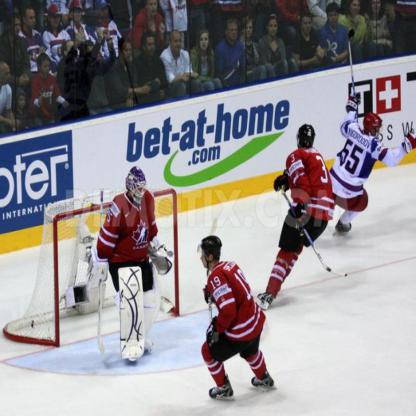face: (201, 250, 213, 269), (67, 43, 79, 62), (86, 47, 96, 66), (146, 38, 156, 56), (135, 184, 145, 201), (11, 19, 21, 36), (122, 44, 132, 61), (172, 36, 182, 53), (25, 14, 36, 29), (97, 12, 108, 27), (229, 25, 239, 41), (201, 35, 210, 52), (302, 18, 311, 35), (3, 64, 11, 83), (245, 22, 254, 37), (270, 21, 279, 36), (148, 3, 158, 15), (352, 3, 361, 16), (42, 62, 50, 76), (329, 13, 338, 25), (373, 126, 381, 139), (51, 17, 61, 27), (73, 11, 83, 21), (373, 2, 381, 13), (63, 13, 71, 24), (19, 97, 26, 109)
